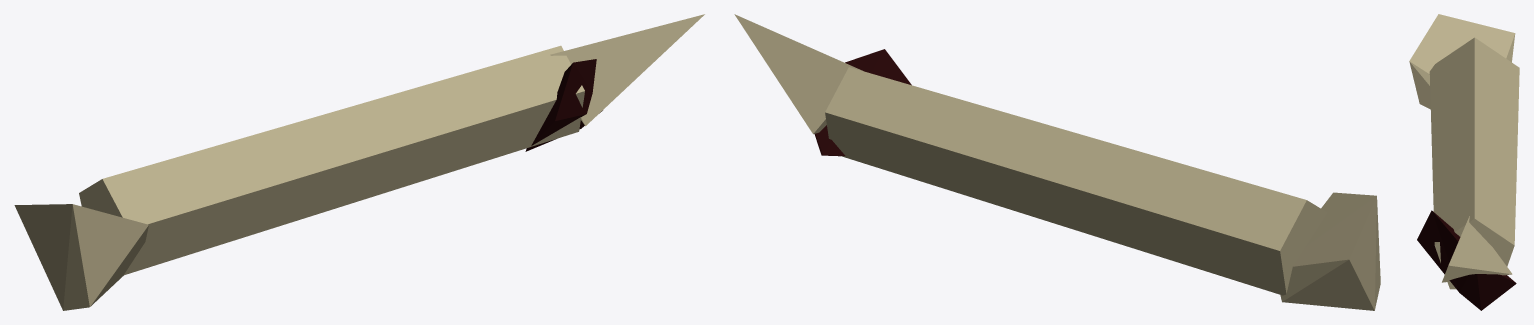
The model's file is gib_06.glb.
3 views of the same model, side by side, from view 1: azimuth 30°, elevation 25°; view 2: azimuth 150°, elevation 25°; view 3: azimuth 270°, elevation 25° (orthographic). The views are drawn at different scales.
Visible parts, largest first — view 1: gib_06; view 2: gib_06; view 3: gib_06.
Boxes of the visible parts, x1=… form: gib_06: x1=14, y1=14, x2=704, y2=310; gib_06: x1=734, y1=14, x2=1380, y2=310; gib_06: x1=1409, y1=14, x2=1519, y2=310.
Bounding box in the file's own units: 0.24 × 0.0493 × 0.0393.
